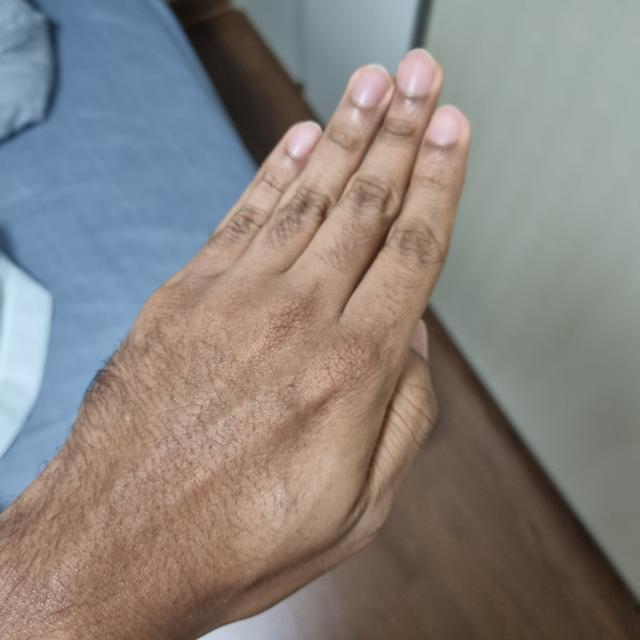Paper: (17, 58, 471, 637)
